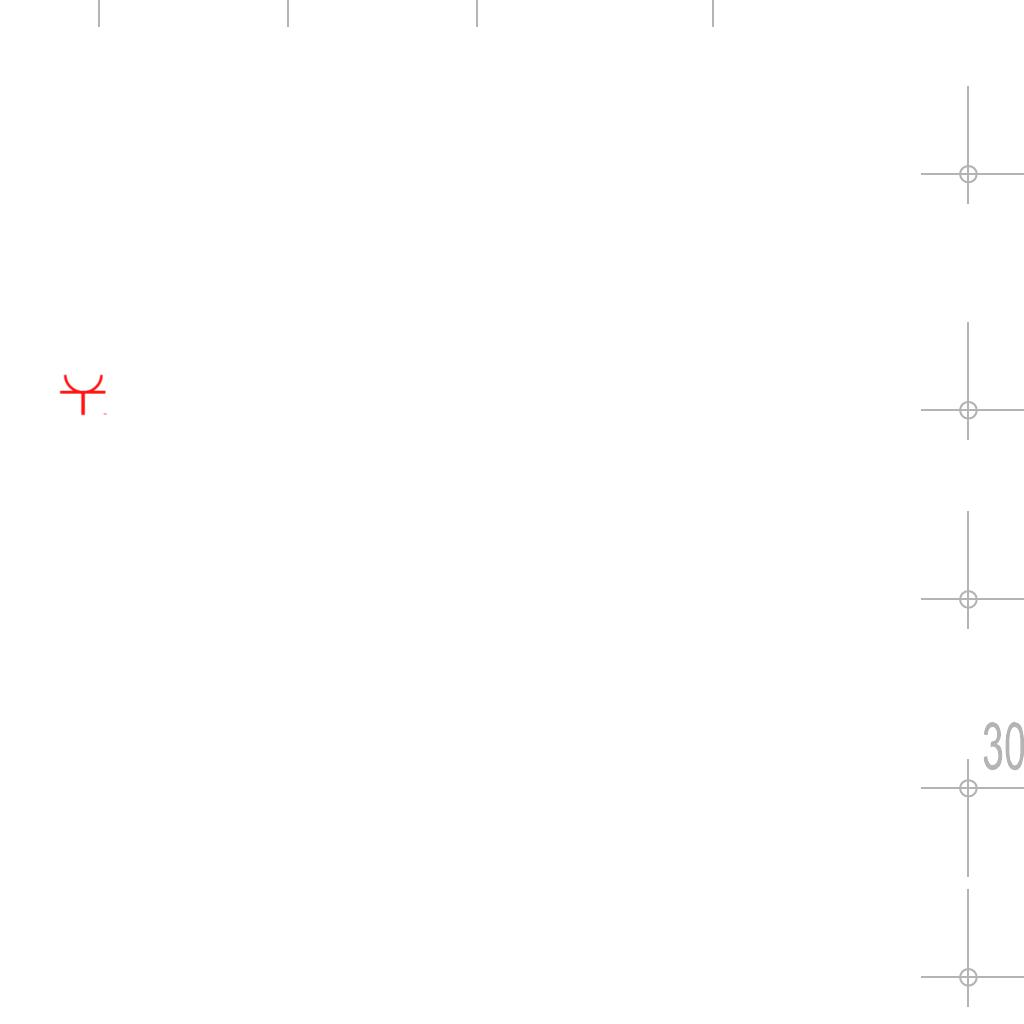Schukosteckdose_einfach: (59, 373, 109, 416)
